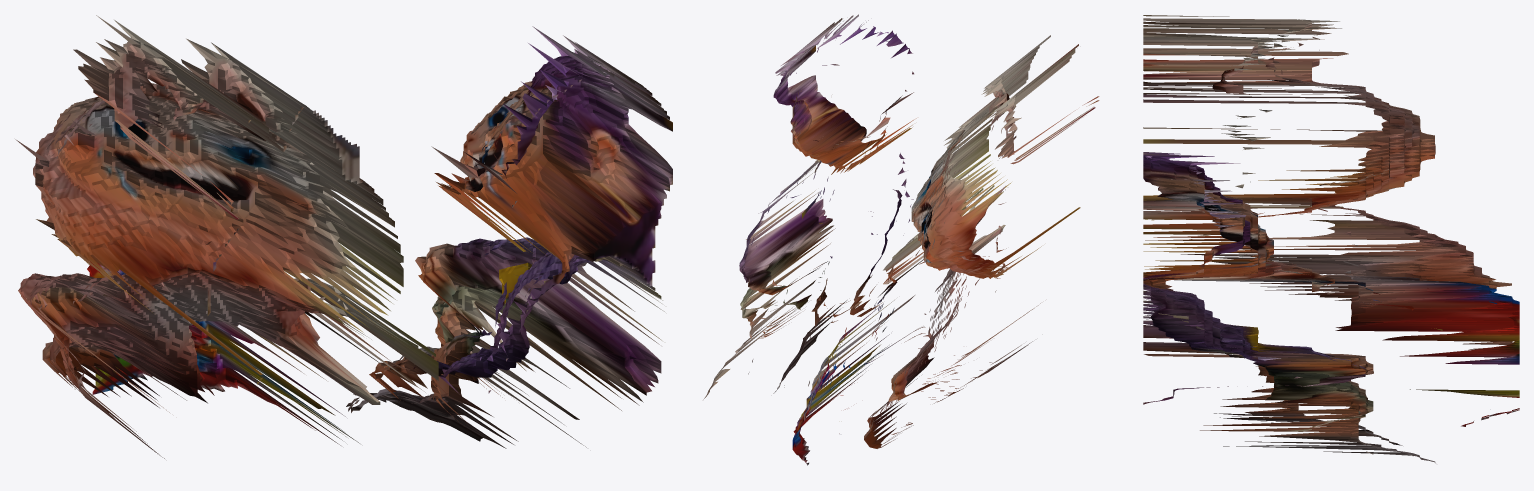
File: frame_00436.glb
3 renders of one model, left to right at view 1: azimuth 30°, elevation 25°; view 2: azimuth 150°, elevation 25°; view 3: azimuth 270°, elevation 25°, orthographic. The views are drawn at different scales.
Parts seen in each view (by area): view 1: geometry_0; view 2: geometry_0; view 3: geometry_0.
Part boxes in pixels (left/top/right/bottom): geometry_0: left=15, top=15, right=672, bottom=458; geometry_0: left=703, top=14, right=1099, bottom=465; geometry_0: left=1143, top=15, right=1519, bottom=463.
Size of the model in its own units: 0.1575 by 0.1626 by 0.16.
1 material, 1 textured.
